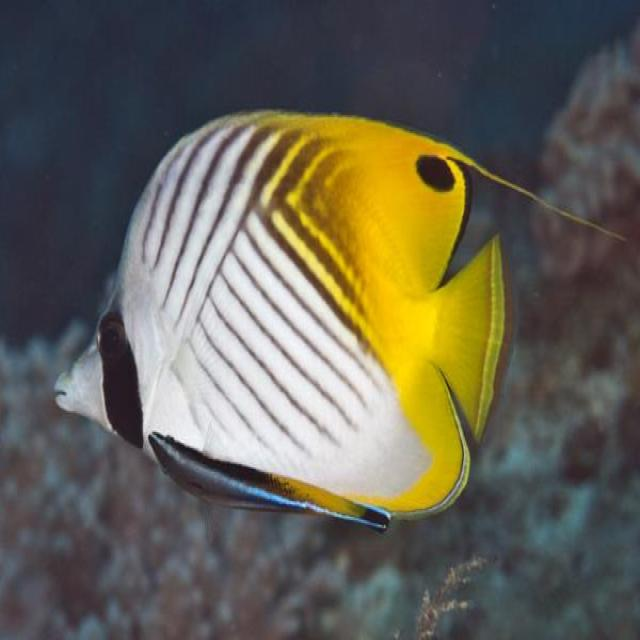ButterflyFish: (55, 101, 508, 545)
